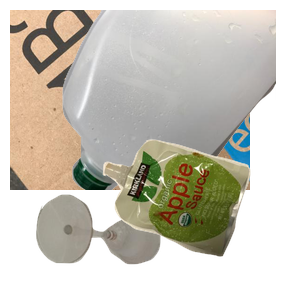cardboard: (10, 10, 250, 190)
glass: (34, 192, 187, 300)
plastic: (60, 10, 300, 190)
trash: (100, 137, 300, 300)
